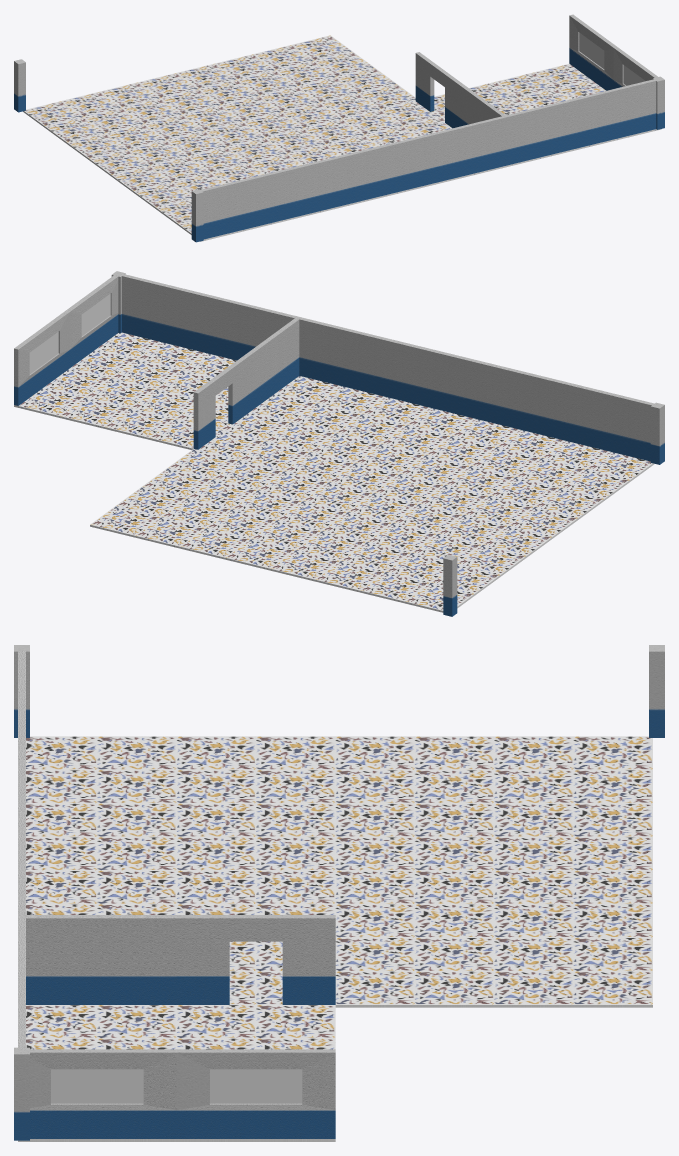
The picture shows the model from 3 angles, top to bottom: view 1: azimuth 30°, elevation 25°; view 2: azimuth 150°, elevation 25°; view 3: azimuth 270°, elevation 25°; orthographic projection. The views are drawn at different scales.
Parts seen in each view (by area): view 1: 102; view 2: 102; view 3: 102.
Part boxes in pixels (x1,y1,x2,y2): 102: (14, 14, 664, 242); 102: (14, 271, 664, 616); 102: (14, 645, 664, 1141).
Bounding box in the file's own units: 6100 × 620 × 4100.
3 materials, 2 textured.
